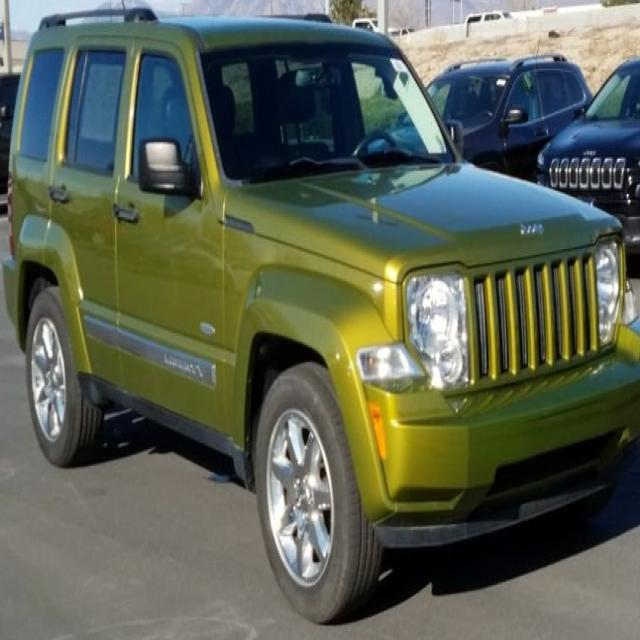green: (15, 11, 623, 548)
